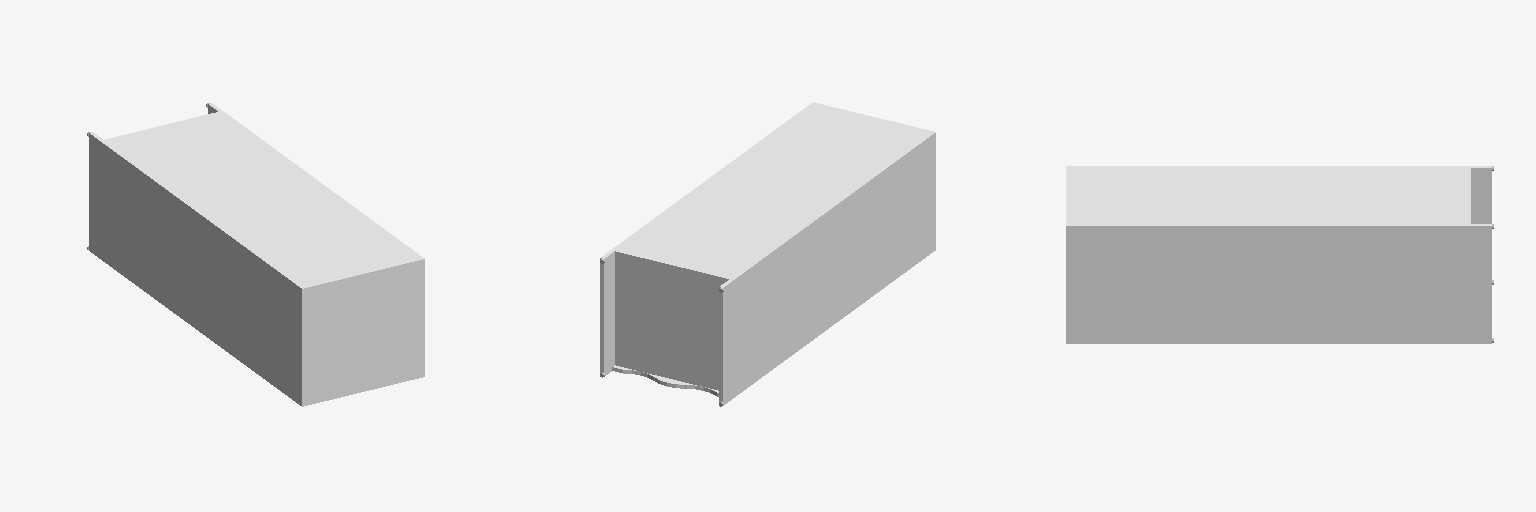
The model's file is SolgulWardrobe.obj.
3 renders of one model, left to right at view 1: azimuth 30°, elevation 25°; view 2: azimuth 150°, elevation 25°; view 3: azimuth 270°, elevation 25°, orthographic.
Parts seen in each view (by area): view 1: obj_0; view 2: obj_0; view 3: obj_0.
Part boxes in pixels (bbox=[...]): obj_0: bbox=[87, 103, 424, 406]; obj_0: bbox=[600, 102, 935, 406]; obj_0: bbox=[1066, 166, 1493, 343].
Size of the model in its own units: 60.5 by 56.27 by 181.